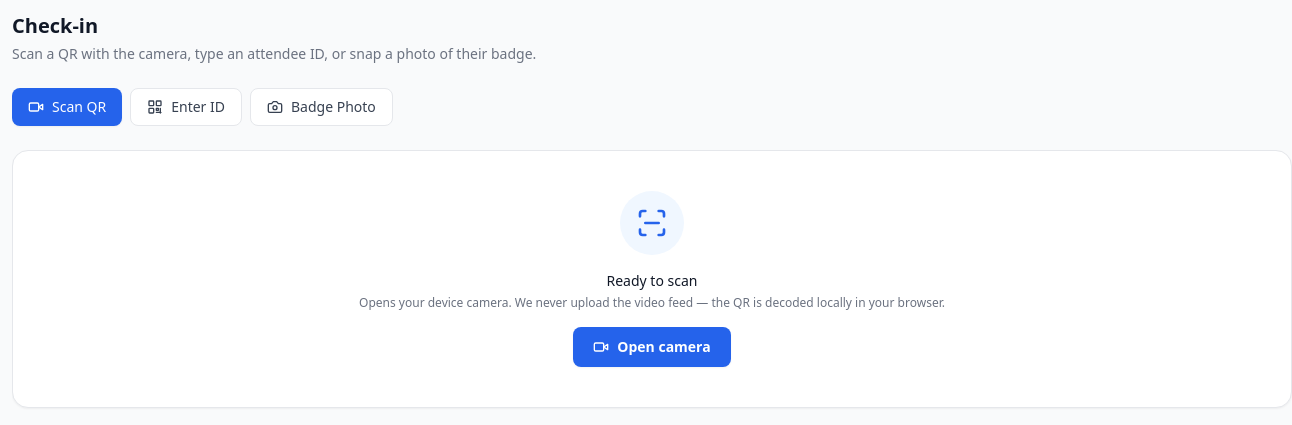
Test: <CheckIn /> › shows an error banner when the API rejects
Step 1. Click the tab "Enter ID" → point(186, 107), box top-left (130, 88), bottom-right (242, 126)
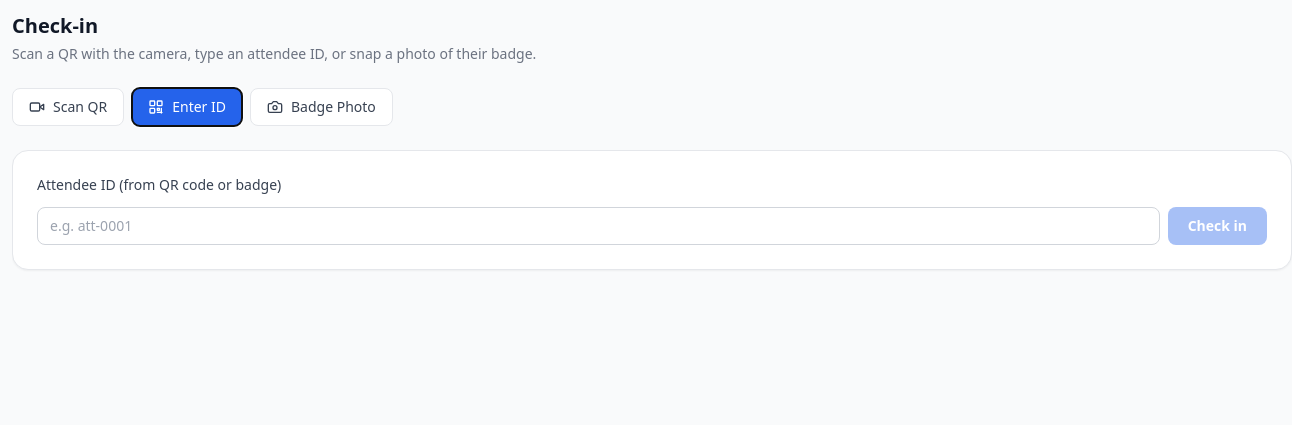
Step 2. Type "att-9999" into the field labelled "Attendee ID (from QR code or badge)" → point(598, 226), box top-left (37, 207), bottom-right (1160, 245)
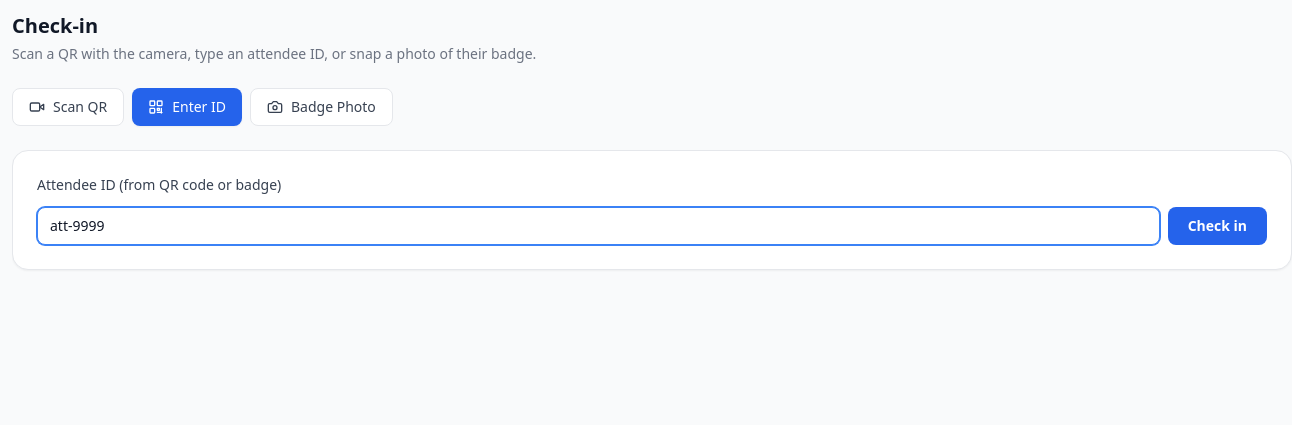
Step 3. Click the button "Check in" → point(1217, 226), box top-left (1168, 207), bottom-right (1267, 245)
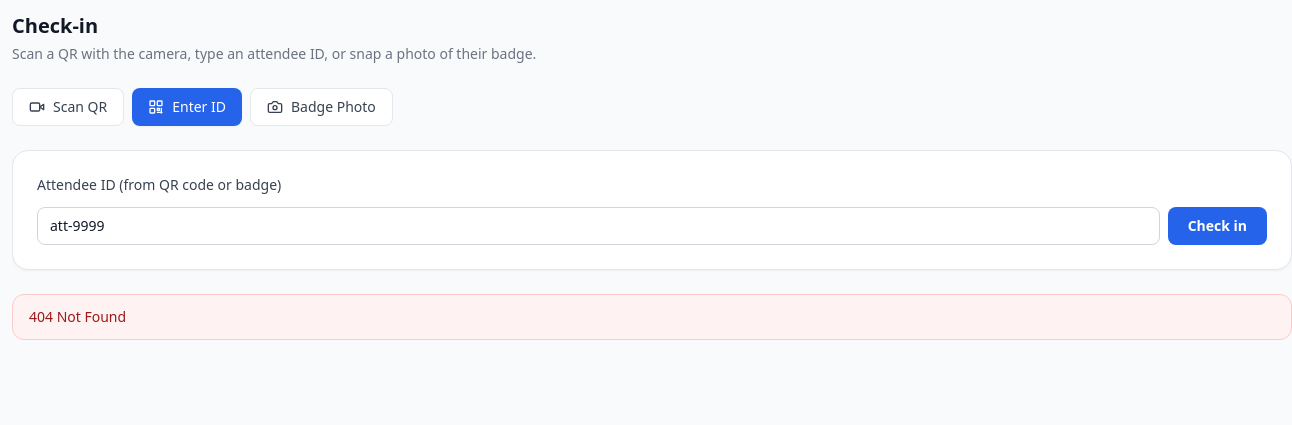
Check: the text "404 Not Found" is shown, box top-left (29, 307), bottom-right (126, 326)
